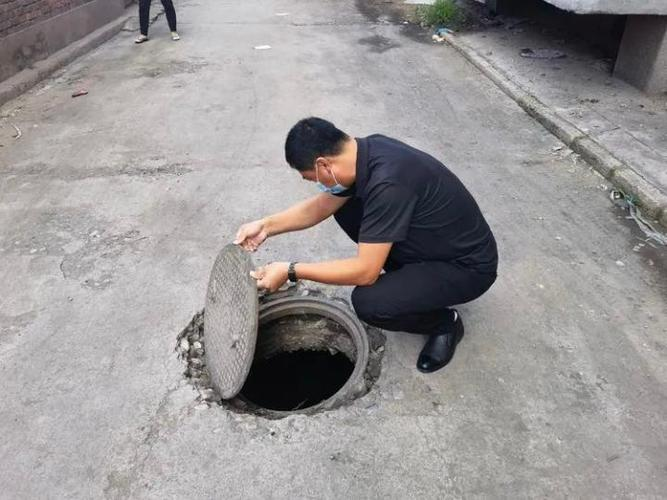circle: (159, 257, 425, 437)
